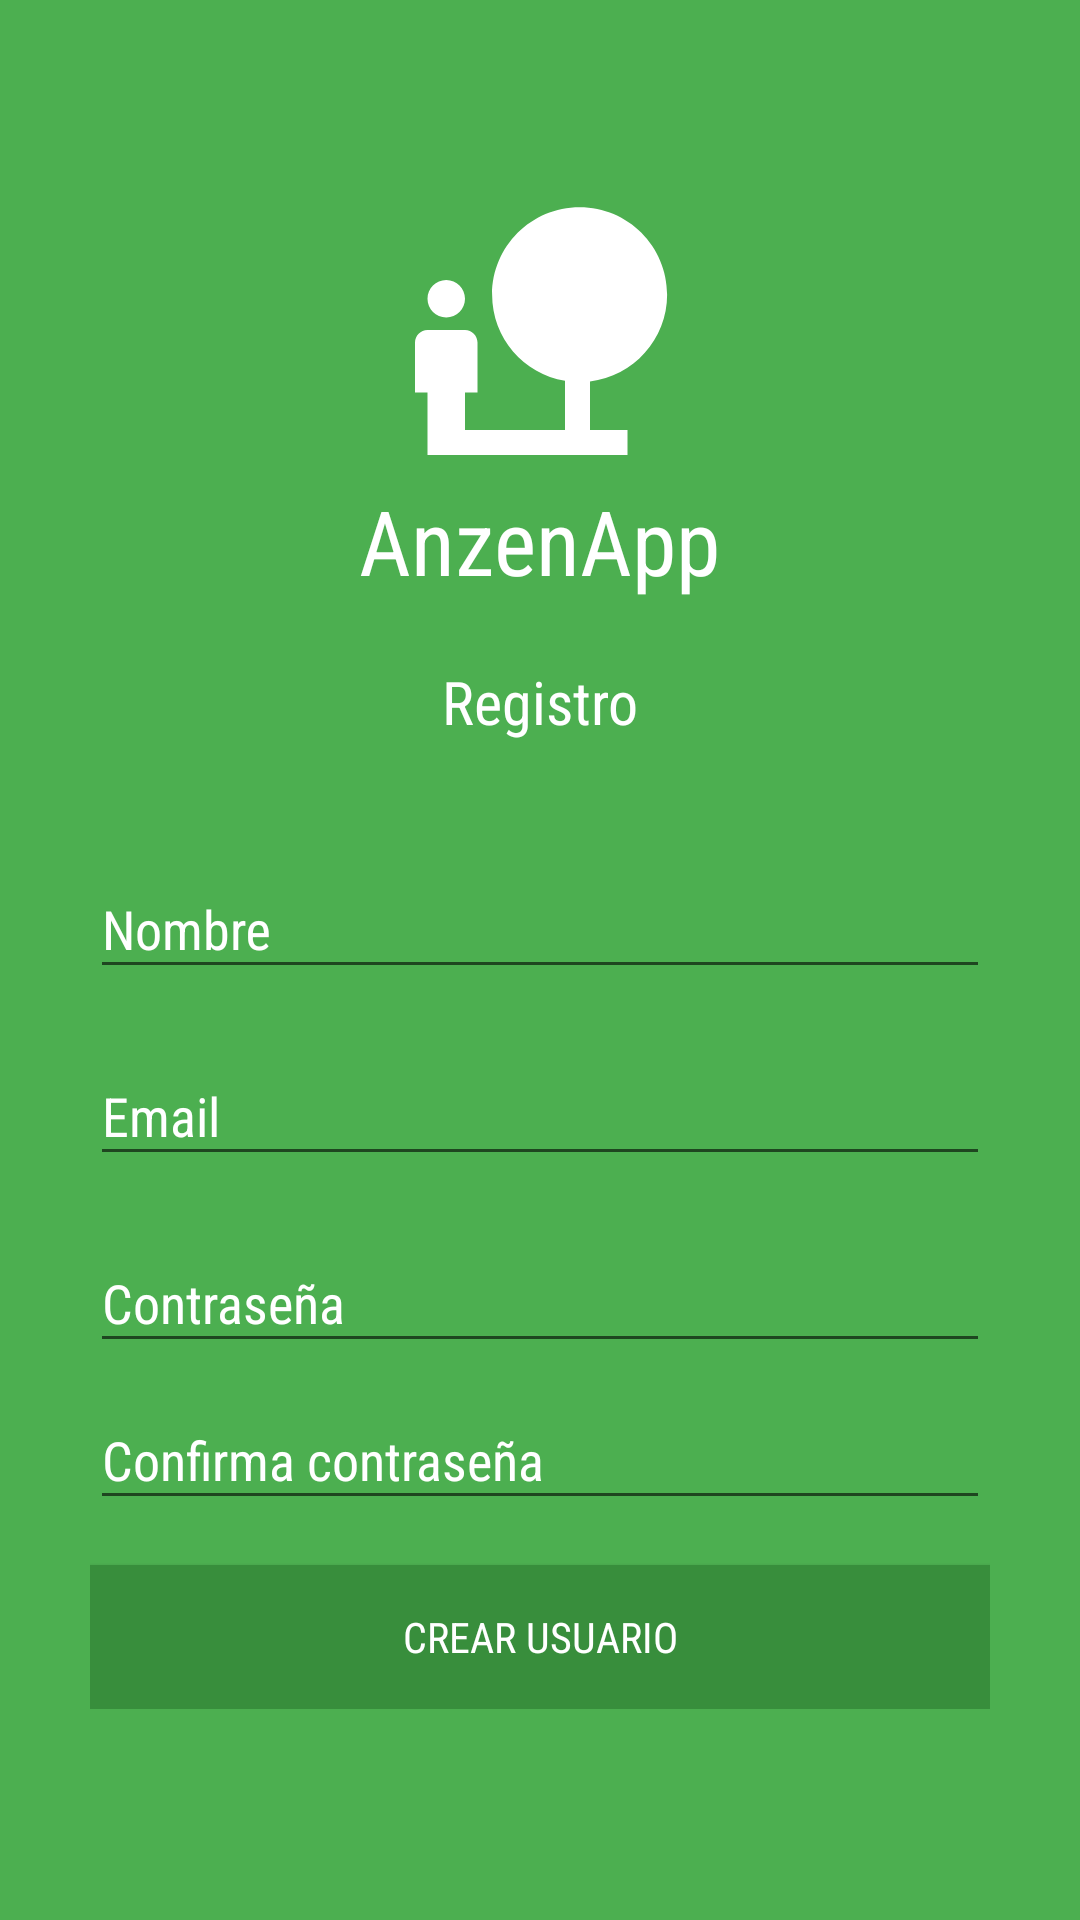

Point at icon controls on the screen. Image size 1080x1920, points as point (x, y).
nature people: point (541, 331)
